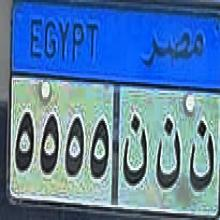5: (88, 108, 113, 190), (64, 107, 86, 184), (39, 108, 62, 178), (14, 107, 36, 178)
noon: (121, 112, 151, 192), (154, 113, 184, 192), (187, 117, 216, 195)
